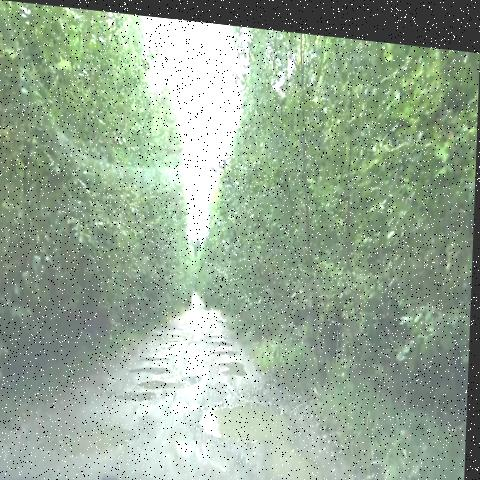pothole: (201, 383, 339, 480), (38, 410, 150, 471), (113, 381, 165, 409), (139, 369, 187, 398), (217, 350, 254, 382), (169, 306, 198, 340), (131, 359, 177, 379), (206, 317, 233, 344), (206, 339, 244, 357), (142, 348, 176, 364), (163, 334, 183, 352)
